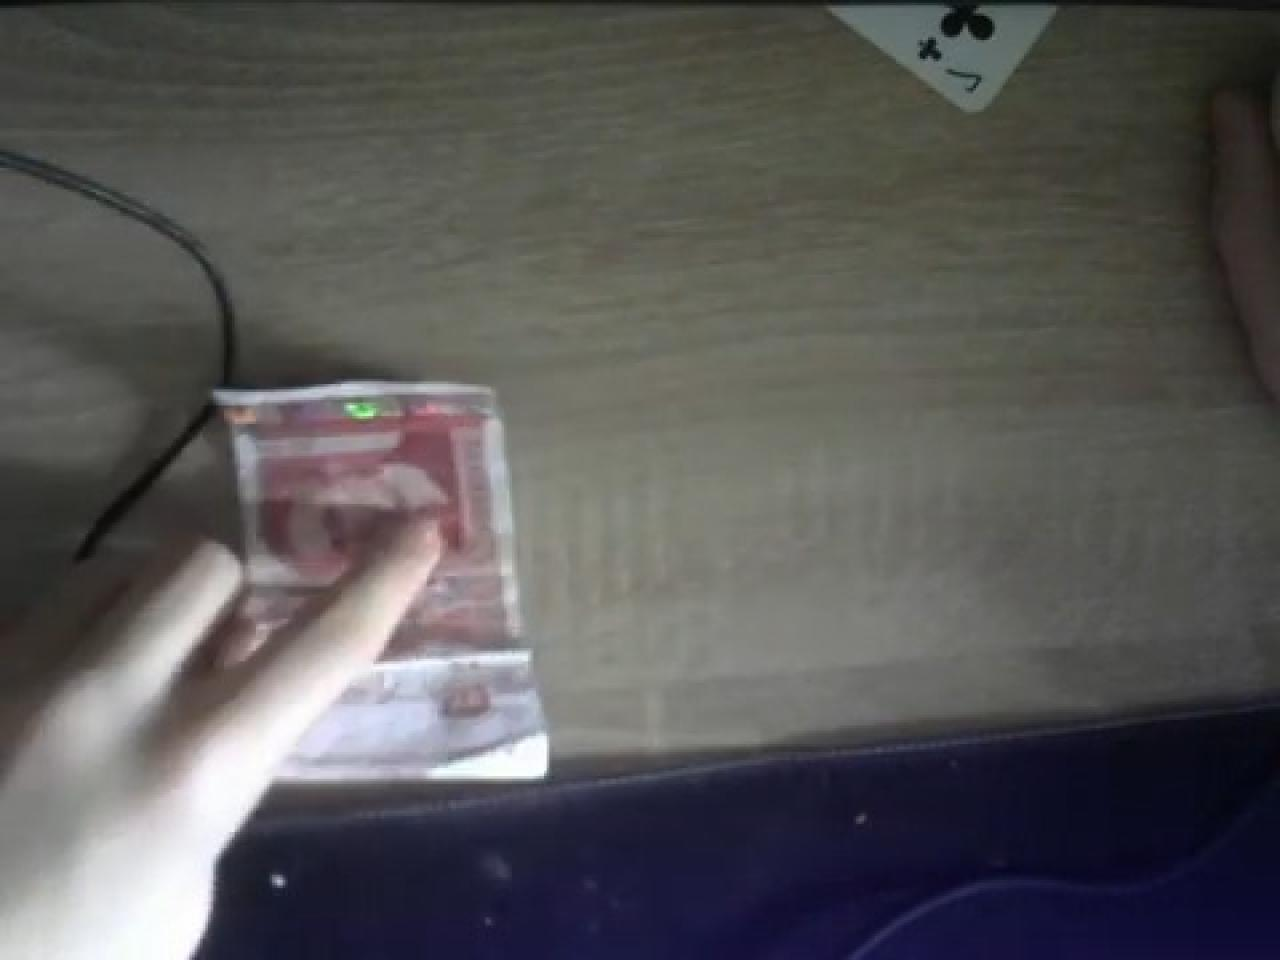5leva: (211, 376, 549, 782)
